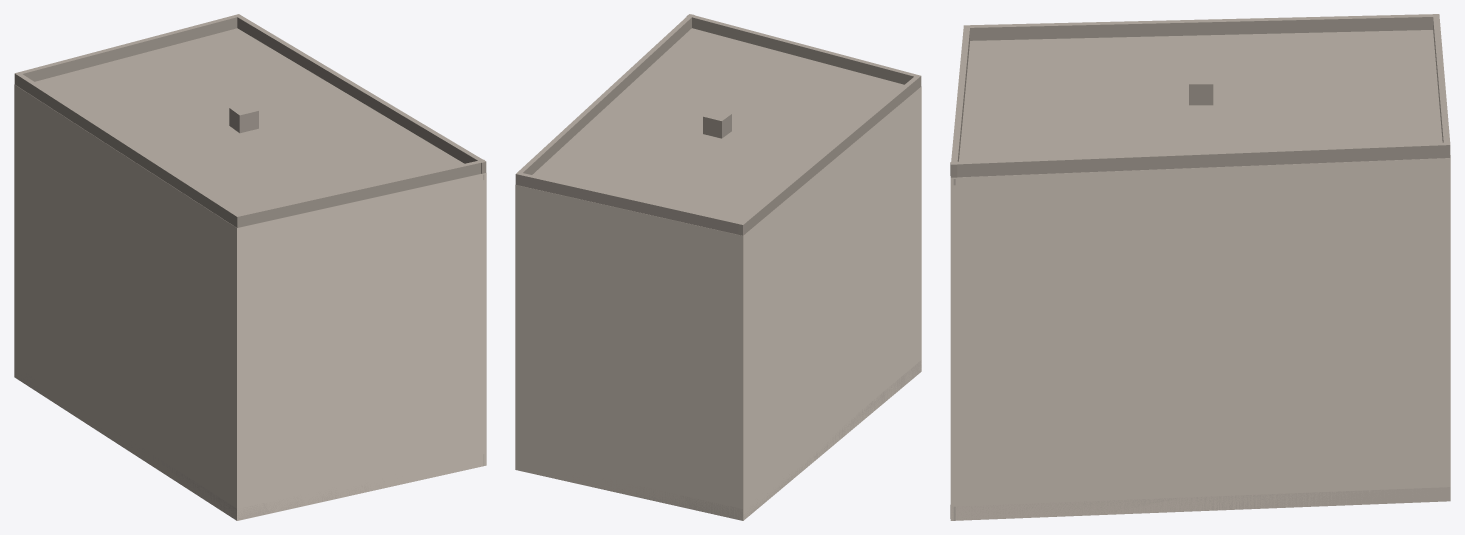
The model's file is cop_misto_loja_terrea_04__way_586695361.fbx.
The picture shows the model from 3 angles, left to right: view 1: azimuth 30°, elevation 25°; view 2: azimuth 150°, elevation 25°; view 3: azimuth 270°, elevation 25°; orthographic projection. The views are drawn at different scales.
Parts seen in each view (by area): view 1: cop_misto_loja_terrea_04__way_586695361_wall, cop_misto_loja_terrea_04__way_586695361_roof, cop_misto_loja_terrea_04__way_586695361_stone; view 2: cop_misto_loja_terrea_04__way_586695361_wall, cop_misto_loja_terrea_04__way_586695361_roof, cop_misto_loja_terrea_04__way_586695361_stone; view 3: cop_misto_loja_terrea_04__way_586695361_wall, cop_misto_loja_terrea_04__way_586695361_roof, cop_misto_loja_terrea_04__way_586695361_stone.
Boxes of the visible parts, bbox=[...] form: cop_misto_loja_terrea_04__way_586695361_wall: bbox=[14, 84, 486, 520]; cop_misto_loja_terrea_04__way_586695361_roof: bbox=[14, 14, 486, 227]; cop_misto_loja_terrea_04__way_586695361_stone: bbox=[15, 372, 484, 520]; cop_misto_loja_terrea_04__way_586695361_wall: bbox=[515, 87, 921, 520]; cop_misto_loja_terrea_04__way_586695361_roof: bbox=[515, 14, 921, 235]; cop_misto_loja_terrea_04__way_586695361_stone: bbox=[537, 360, 921, 520]; cop_misto_loja_terrea_04__way_586695361_wall: bbox=[950, 158, 1450, 520]; cop_misto_loja_terrea_04__way_586695361_roof: bbox=[950, 14, 1450, 177]; cop_misto_loja_terrea_04__way_586695361_stone: bbox=[950, 487, 1450, 520].
Size of the model in its own units: 1698 by 1912 by 2380.
